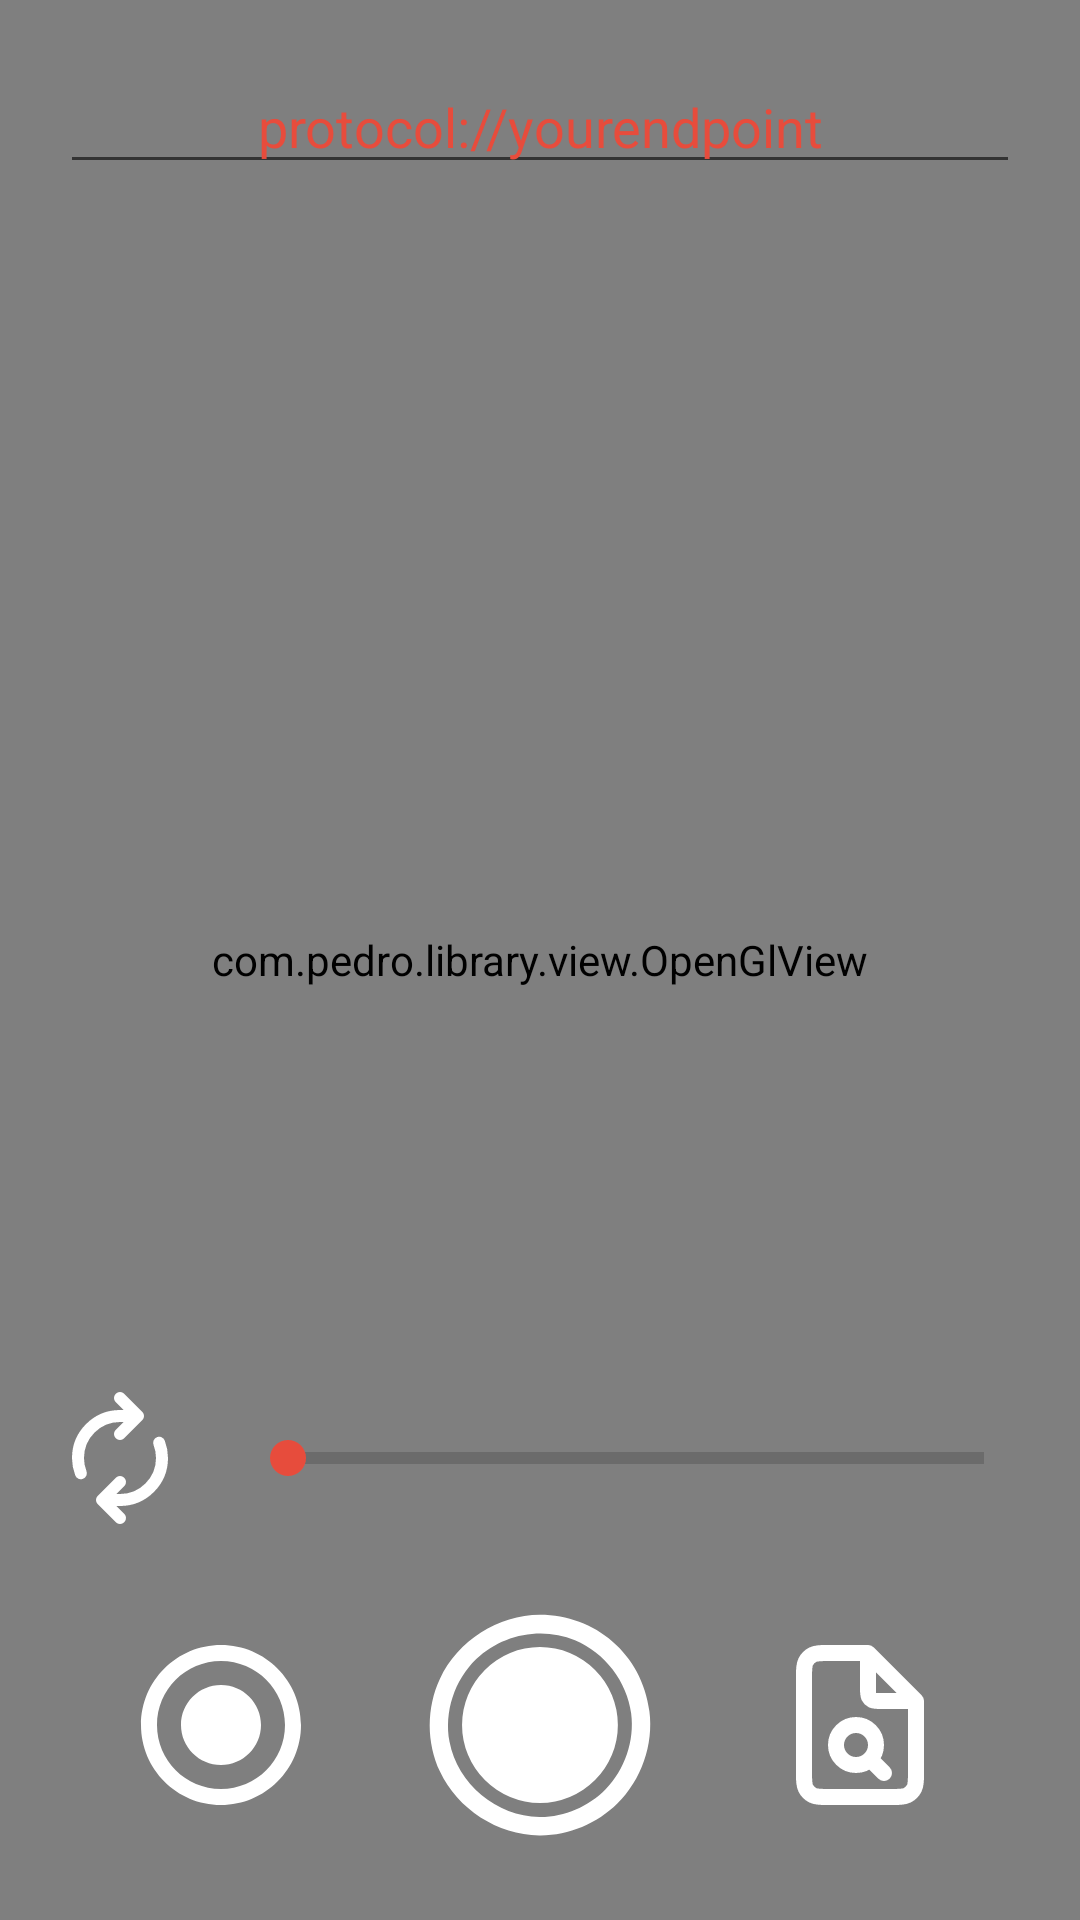

Named icons in this screenshot (1080px x 1920px) and their bounding boxes, box(x1, y1, x2, y2):
file search: box(796, 1645, 924, 1805)
record: box(141, 1645, 301, 1805)
sync: box(72, 1392, 168, 1524)
